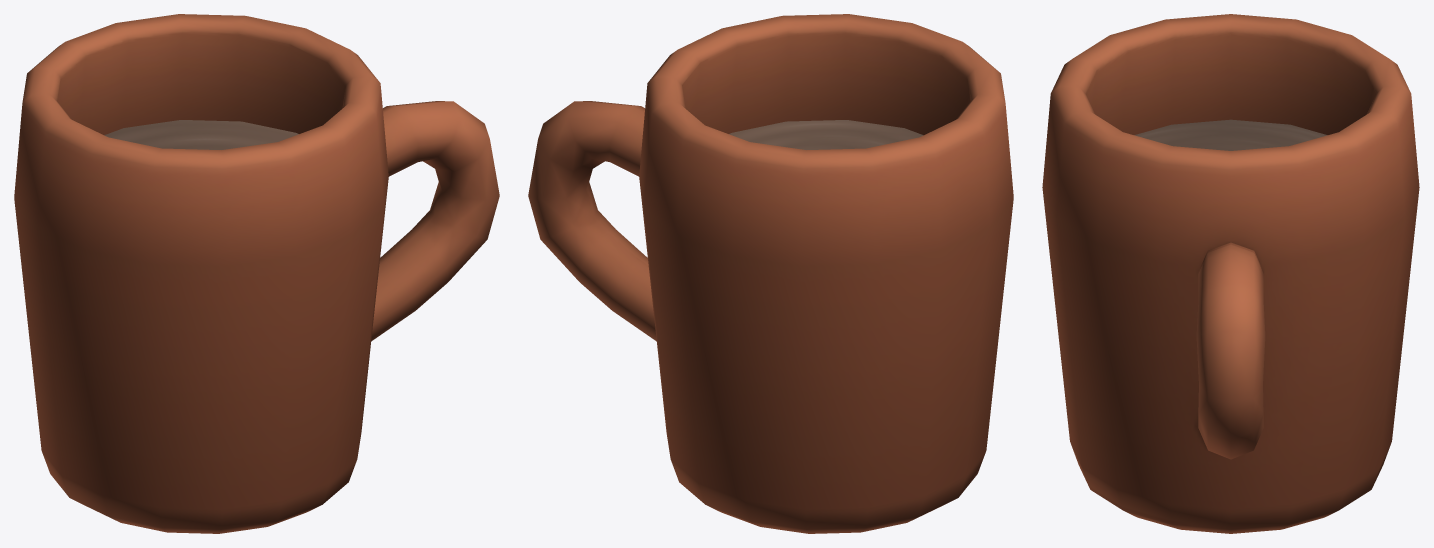
The model's file is Cup.fbx.
3 views of the same model, side by side, from view 1: azimuth 30°, elevation 25°; view 2: azimuth 150°, elevation 25°; view 3: azimuth 270°, elevation 25° (orthographic).
Visible parts, largest first — view 1: Cup, Coffee-in-cup; view 2: Cup, Coffee-in-cup; view 3: Cup, Coffee-in-cup.
Part boxes in pixels (x1,y1,x2,y2): Cup: [14, 14, 499, 533]; Coffee-in-cup: [104, 120, 298, 149]; Cup: [528, 14, 1013, 533]; Coffee-in-cup: [729, 120, 923, 149]; Cup: [1042, 14, 1419, 533]; Coffee-in-cup: [1134, 119, 1327, 150].
Bounding box in the file's own units: 0.7297 × 0.5969 × 0.5209.
